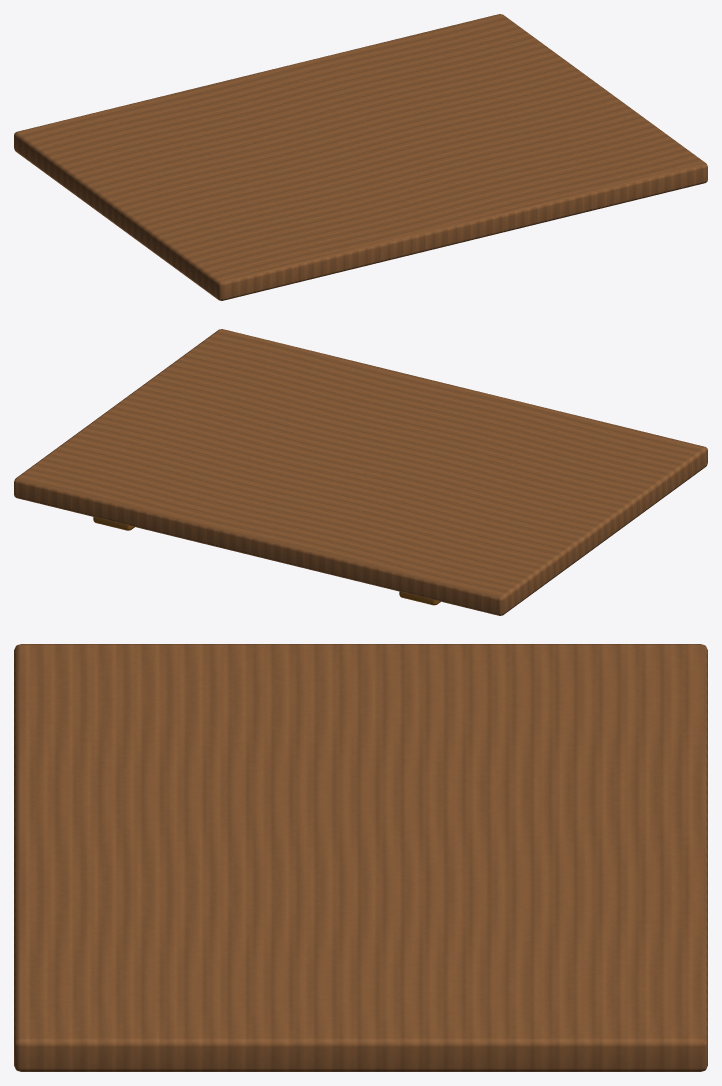
Rendered from storage_lid.glb.
3 views of the same model, one above another, from view 1: azimuth 30°, elevation 25°; view 2: azimuth 150°, elevation 25°; view 3: azimuth 270°, elevation 25° (orthographic). The views are drawn at different scales.
Parts seen in each view (by area): view 1: V2_storage_lid_oak; view 2: V2_storage_lid_oak, V2_storage_lid_brass; view 3: V2_storage_lid_oak.
Boxes of the visible parts, left/top/right/bottom form: V2_storage_lid_oak: left=14, top=14, right=707, bottom=300; V2_storage_lid_oak: left=14, top=329, right=707, bottom=615; V2_storage_lid_brass: left=93, top=517, right=440, bottom=605; V2_storage_lid_oak: left=14, top=644, right=707, bottom=1071.
Size of the model in its own units: 1.28 by 0.08 by 0.94.
2 materials, 1 textured.
